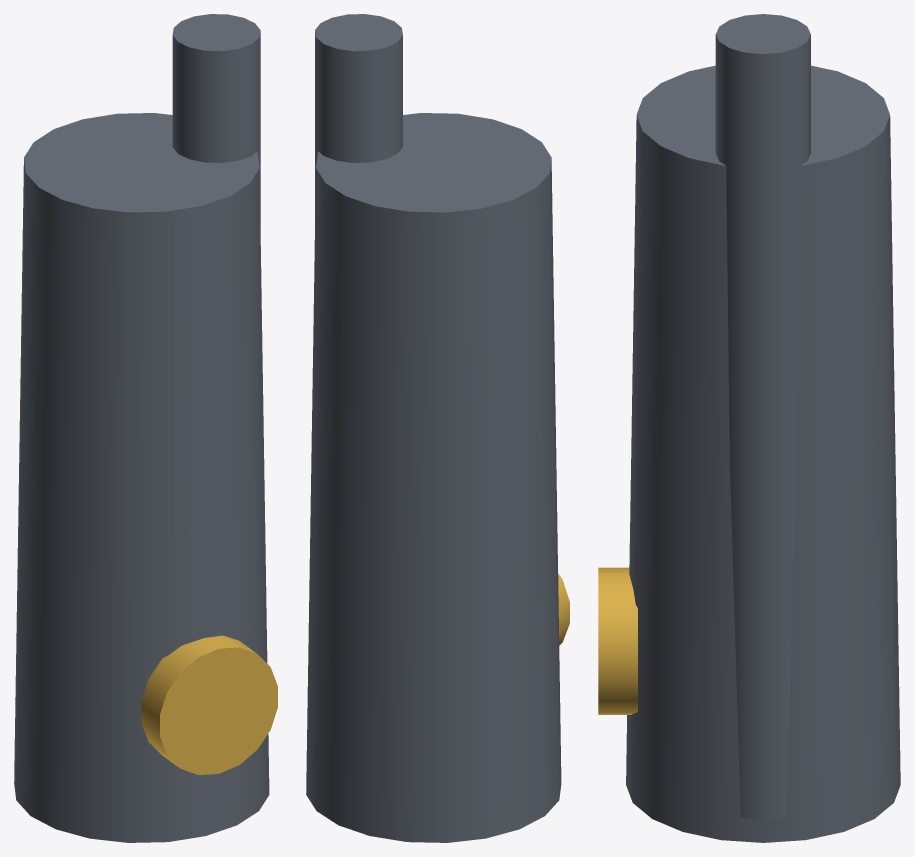
The model's file is prop_bulwark_pistons.glb.
3 renders of one model, left to right at view 1: azimuth 30°, elevation 25°; view 2: azimuth 150°, elevation 25°; view 3: azimuth 270°, elevation 25°, orthographic. The views are drawn at different scales.
Visible parts, largest first — view 1: Handle_Grip_Sleeve, Brass_Pressure_Gauge, Bulwark_Hydraulic_Pistons; view 2: Handle_Grip_Sleeve, Bulwark_Hydraulic_Pistons, Brass_Pressure_Gauge; view 3: Handle_Grip_Sleeve, Bulwark_Hydraulic_Pistons, Brass_Pressure_Gauge.
Boxes of the visible parts, x1,y1,x2,y2 form: Handle_Grip_Sleeve: [14, 113, 269, 842]; Brass_Pressure_Gauge: [141, 635, 277, 774]; Bulwark_Hydraulic_Pistons: [172, 14, 260, 224]; Handle_Grip_Sleeve: [306, 113, 561, 842]; Bulwark_Hydraulic_Pistons: [315, 14, 402, 218]; Brass_Pressure_Gauge: [558, 573, 569, 645]; Handle_Grip_Sleeve: [626, 65, 900, 842]; Bulwark_Hydraulic_Pistons: [715, 14, 810, 819]; Brass_Pressure_Gauge: [598, 567, 637, 714].
Bounding box in the file's own units: 0.105 × 0.33 × 0.1145.
